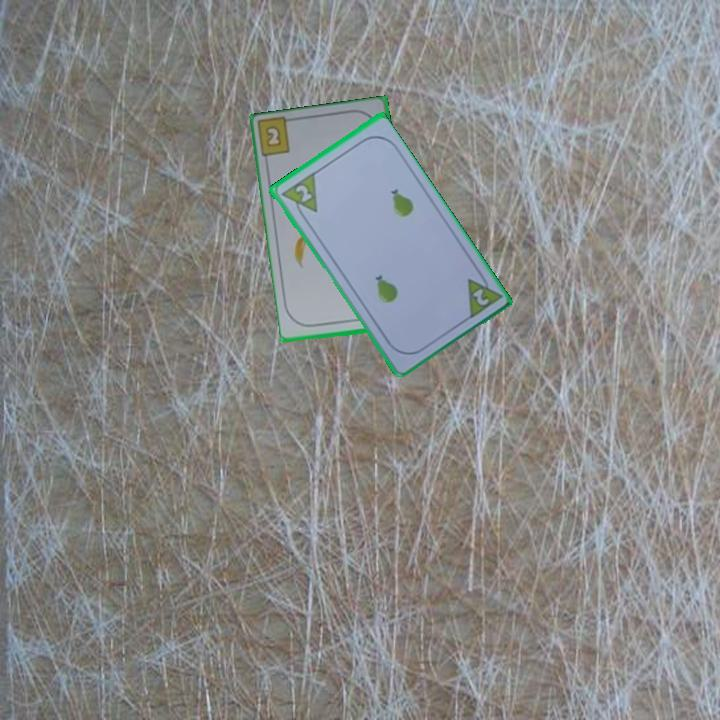2b: (262, 122, 285, 150)
2p: (277, 169, 320, 222), (463, 267, 503, 322)
